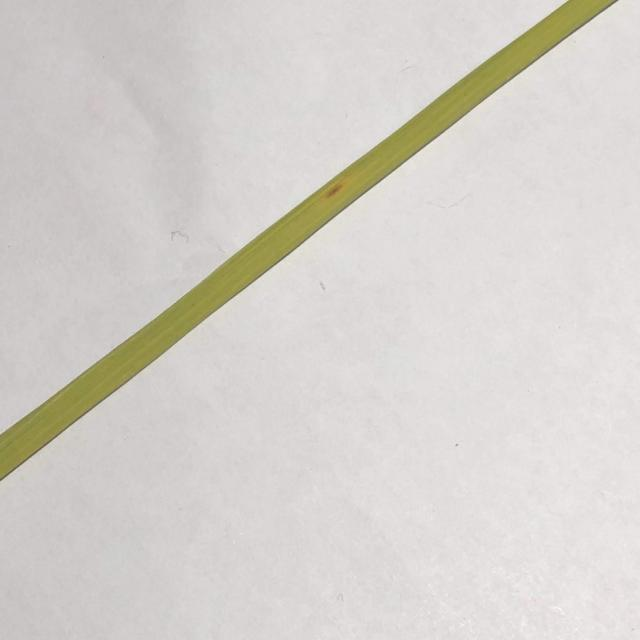brownspots: (318, 177, 350, 205)
